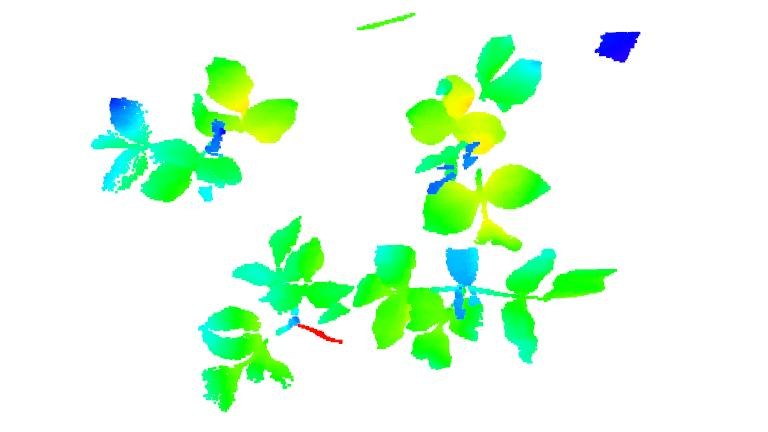mungbean: (351, 240, 619, 367), (195, 213, 358, 416), (87, 51, 303, 204), (412, 31, 555, 254)
